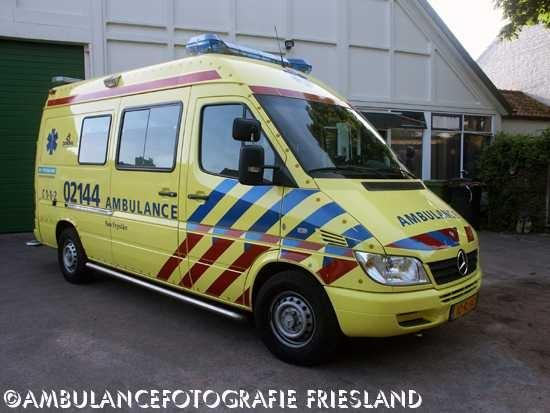car: (29, 31, 482, 366)
